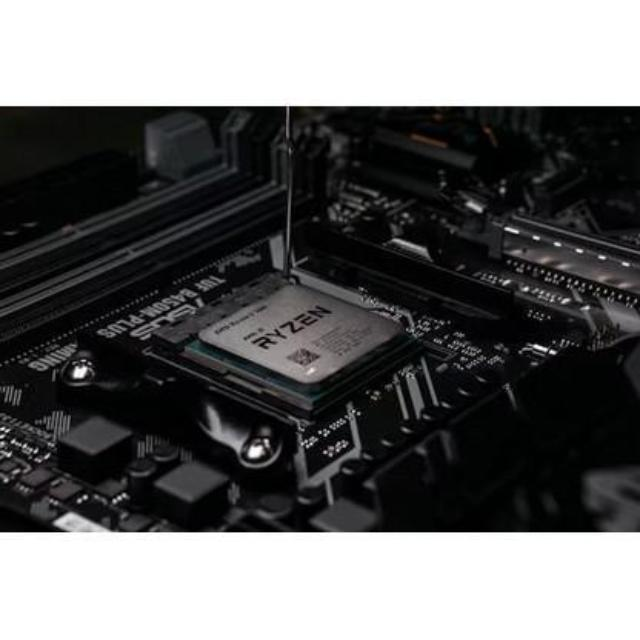CPU: (192, 283, 406, 400)
